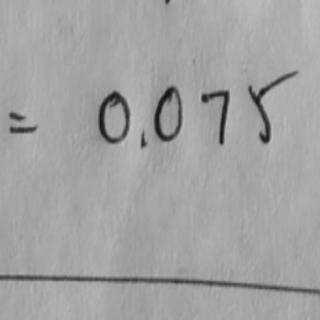.: (135, 132, 150, 149)
0: (93, 89, 132, 148), (153, 86, 184, 141)
5: (249, 70, 299, 145)
7: (202, 84, 233, 149)
